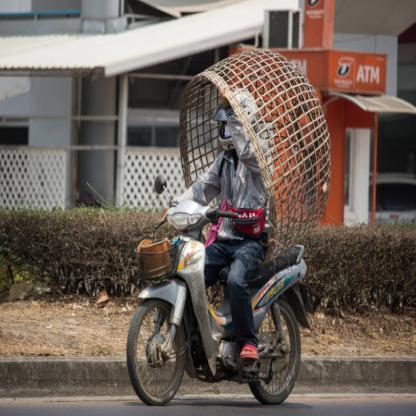Motorcycle: (116, 179, 311, 415)
